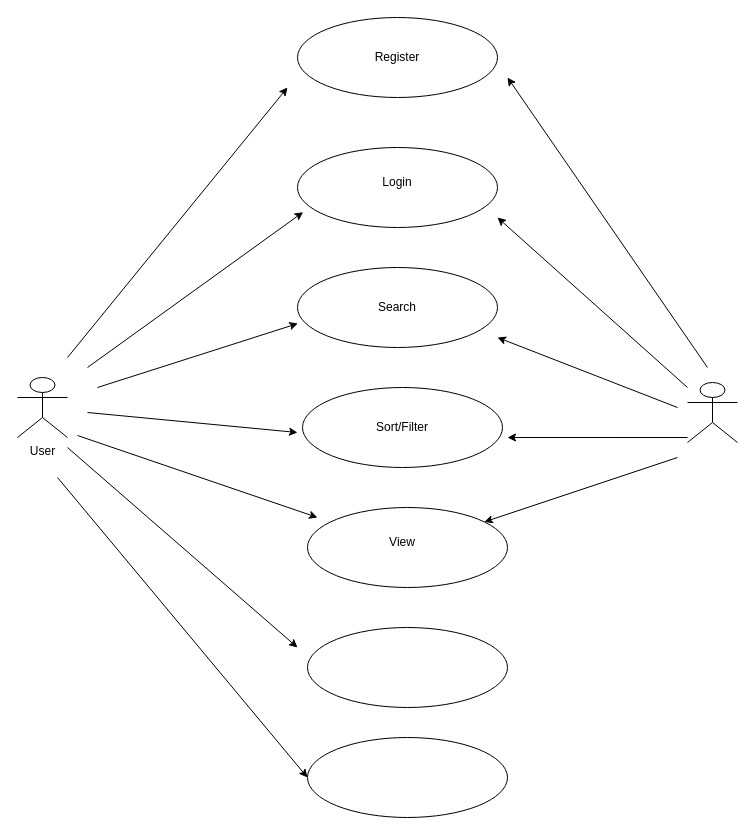
Some shapes in this 755 by 835 pixel diagram are drawn without their labels. Each missing label, with the centre of its shape:
Book: the point at 407,667
Owner: the point at 712,412
Payment: the point at 407,777
